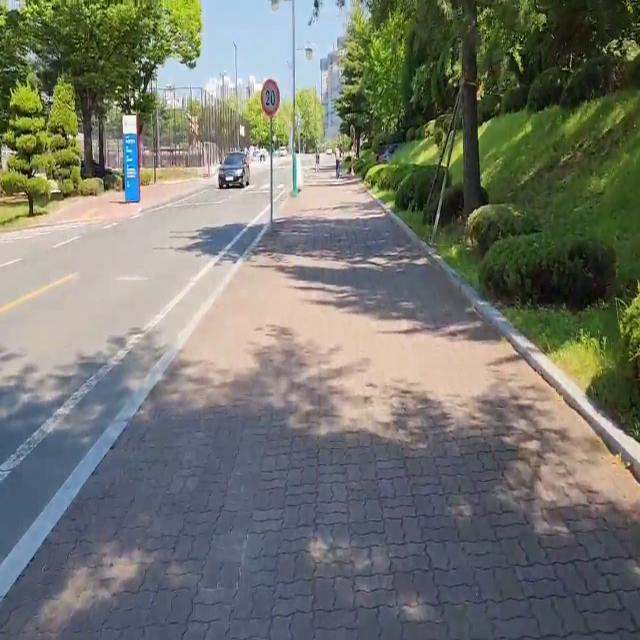car: (211, 146, 253, 191)
streetlamp: (268, 0, 317, 200)
